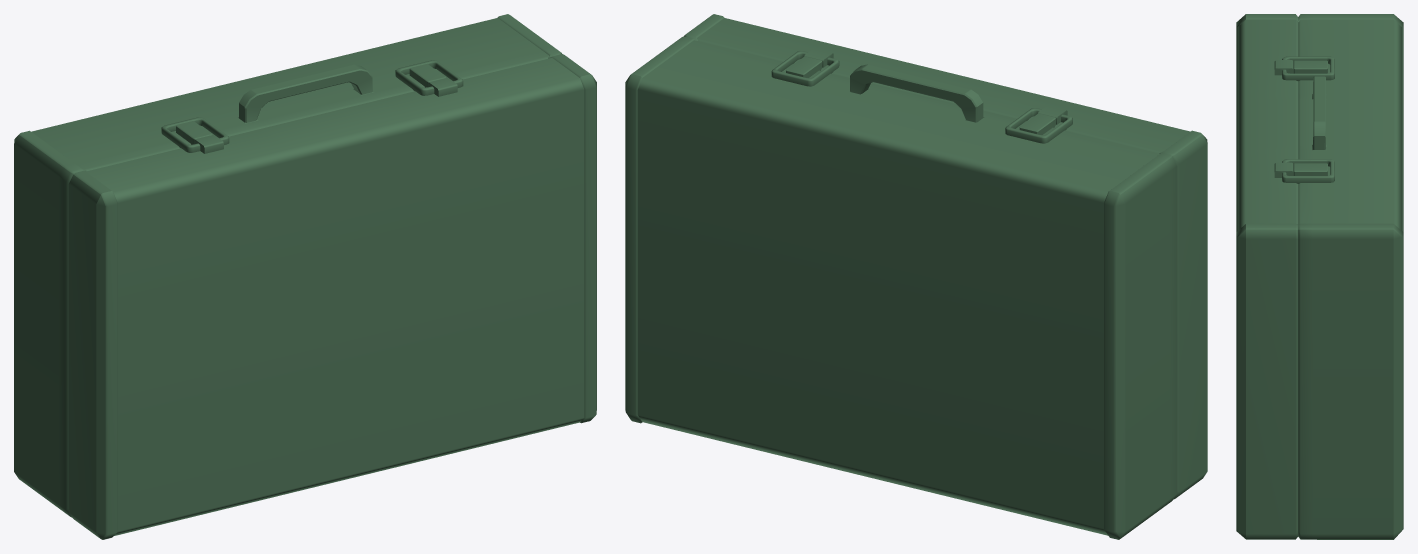
File: luggage05.fbx
3 renders of one model, left to right at view 1: azimuth 30°, elevation 25°; view 2: azimuth 150°, elevation 25°; view 3: azimuth 270°, elevation 25°, orthographic. The views are drawn at different scales.
Visible parts, largest first — view 1: Luggage02; view 2: Luggage02; view 3: Luggage02.
Boxes of the visible parts, left/top/right/bottom form: Luggage02: left=14, top=14, right=596, bottom=539; Luggage02: left=625, top=14, right=1207, bottom=539; Luggage02: left=1236, top=14, right=1403, bottom=539.
Bounding box in the file's own units: 59.46 × 42.19 × 19.17.
